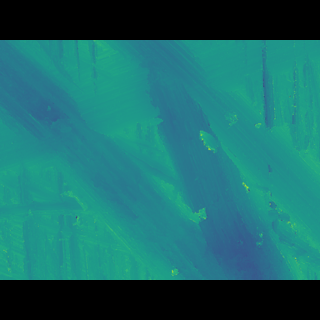Loch: (0, 69, 319, 250)
